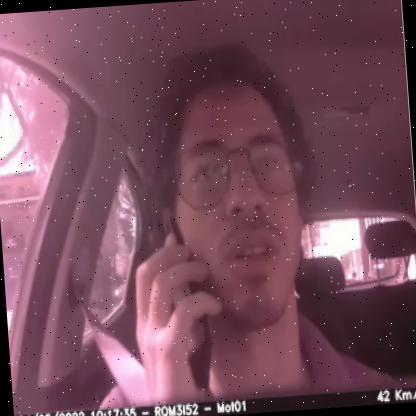phone: (147, 210, 220, 395)
